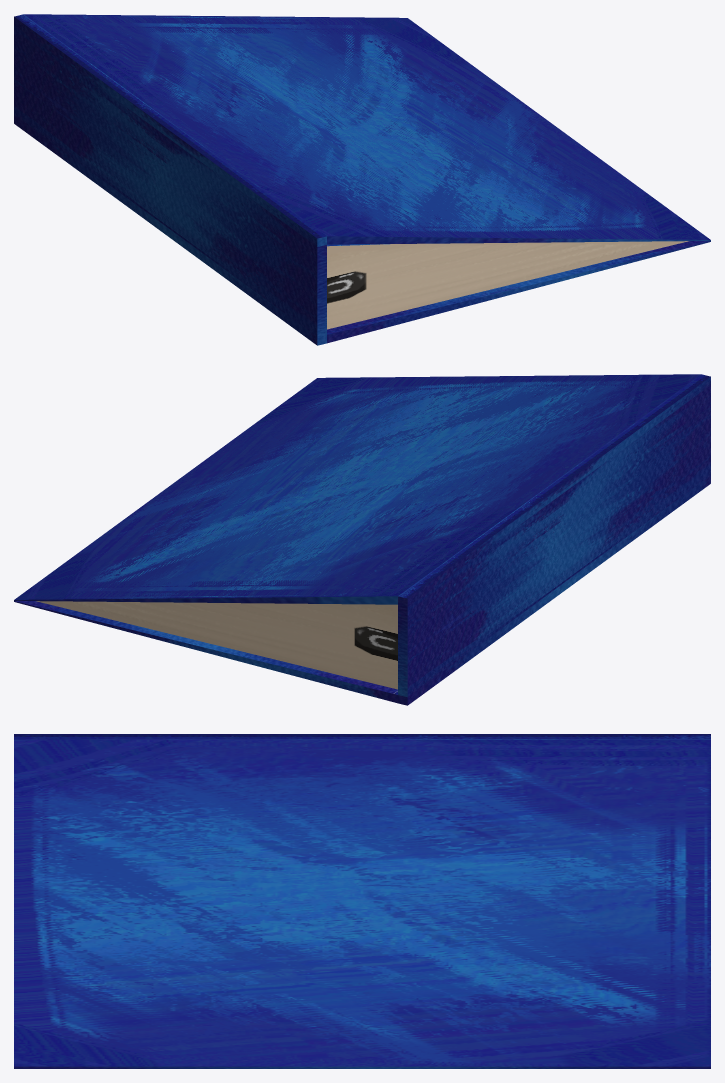
The model's file is binderramp_modelingfbx.fbx.
3 renders of one model, top to bottom at view 1: azimuth 30°, elevation 25°; view 2: azimuth 150°, elevation 25°; view 3: azimuth 270°, elevation 25°, orthographic. The views are drawn at different scales.
Visible parts, largest first — view 1: Cube.002; view 2: Cube.002; view 3: Cube.002.
Boxes of the visible parts, x1=… form: Cube.002: x1=14, y1=14, x2=710, y2=345; Cube.002: x1=14, y1=374, x2=710, y2=705; Cube.002: x1=14, y1=734, x2=710, y2=1068.
Size of the model in its own units: 344 by 89.47 by 459.
Materials: 1 (1 with a texture image).
